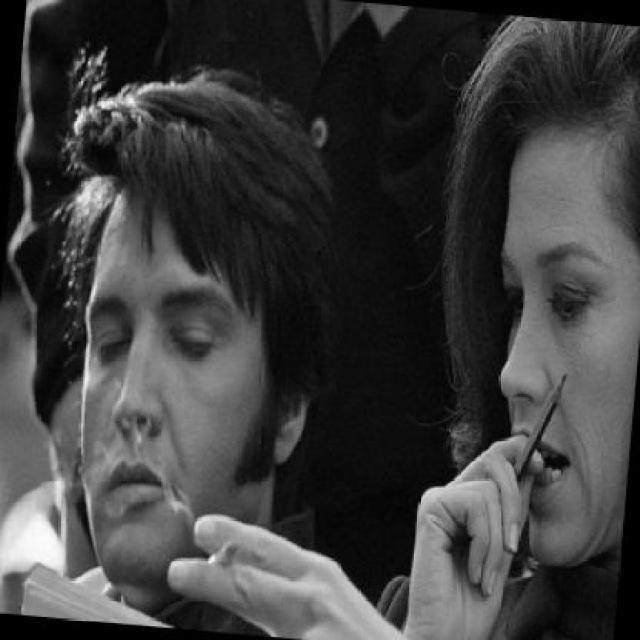cigarette: (204, 538, 242, 572)
